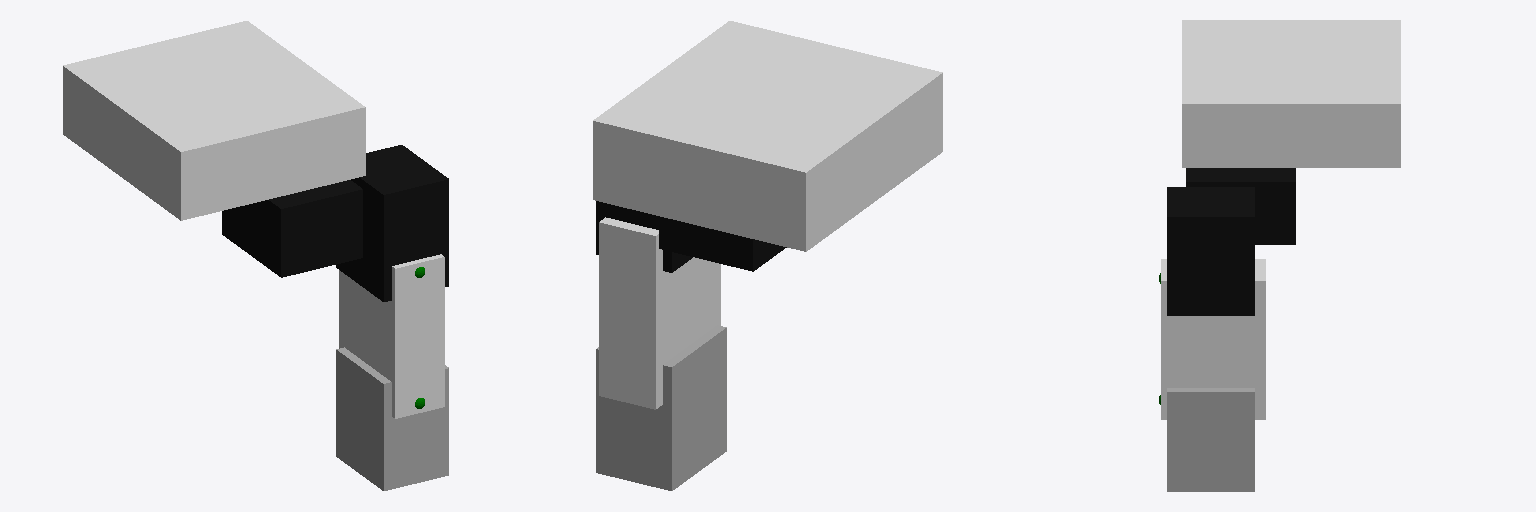
The robot description file, URDF, robot "dog_picker":
<?xml version="1.0" ?>
<!-- =================================================================================== -->
<!-- |    This document was autogenerated by xacro from front_right_leg.xacro          | -->
<!-- |    EDITING THIS FILE BY HAND IS NOT RECOMMENDED                                 | -->
<!-- =================================================================================== -->
<robot name="dog_picker" xmlns:xacro="http://www.ros.org/wiki/xacro">
  <!-- negative green is the joint axis in y... -->
  <!-- z is blue and x is red... -->
  <link name="base_link">
    <visual>
      <origin rpy="0 0 0" xyz="0 0 0.150"/>
      <geometry>
        <box size="0.09 0.1 0.032"/>
      </geometry>
      <material name="DimWhite">
        <color rgba="0.9 0.9 0.9 1.0"/>
      </material>
    </visual>
  </link>
  <joint name="robotis_part_4" type="fixed">
    <origin rpy="1.570795 -1.570795 0.0" xyz="0.045 -0.0365 0.111"/>
    <parent link="base_link"/>
    <child link="dynamixel_AX12_4_link"/>
  </joint>
  <link name="dynamixel_AX12_4_link">
    <!---rviz -->
    <visual>
      <!--link origin is a delta from the joint to the center of the servo box-->
      <origin rpy="0 0 0" xyz="0 0.02 -0.0135"/>
      <geometry>
        <!-- <mesh filename="package://pi_tb_description/meshes/ax12_box.${MESH_EXT}" scale="${M_SCALE} ${M_SCALE} ${M_SCALE}"/> -->
        <box size="0.032 0.04 0.05"/>
      </geometry>
      <material name="Gray">
        <color rgba="0.1 0.1 0.1 1.0"/>
      </material>
    </visual>
  </link>
  <joint name="dynamixel_AX12_4_joint" type="revolute">
    <!--origin of whole dynamixel is at the center of the round part visible on the servo which is the joint -->
    <origin rpy="0 0 0" xyz="0 0 0"/>
    <axis xyz="0 -1 0"/>
    <limit effort="1000" lower="-2.61799166667" upper="2.61799166667" velocity="0.5"/>
    <parent link="dynamixel_AX12_4_link"/>
    <child link="S-B_4_link"/>
  </joint>
  <link name="S-B_4_link">
    <visual>
      <origin rpy="0 0 0" xyz="0 0 0"/>
      <geometry>
        <sphere radius="0.004"/>
      </geometry>
      <material name="Green">
        <color rgba="0 0.5 0 1.0"/>
      </material>
    </visual>
  </link>
  <joint name="S1_4" type="fixed">
    <origin rpy="-1.570795 0 1.570795 " xyz="-0.023 -0.021  0.02"/>
    <parent link="S-B_4_link"/>
    <child link="dynamixel_AX12_16_link"/>
  </joint>
  <link name="dynamixel_AX12_16_link">
    <!---rviz -->
    <visual>
      <!--link origin is a delta from the joint to the center of the servo box-->
      <origin rpy="0 0 0" xyz="0 0.02 -0.0135"/>
      <geometry>
        <!-- <mesh filename="package://pi_tb_description/meshes/ax12_box.${MESH_EXT}" scale="${M_SCALE} ${M_SCALE} ${M_SCALE}"/> -->
        <box size="0.032 0.04 0.05"/>
      </geometry>
      <material name="Gray">
        <color rgba="0.1 0.1 0.1 1.0"/>
      </material>
    </visual>
  </link>
  <joint name="dynamixel_AX12_16_joint" type="revolute">
    <!--origin of whole dynamixel is at the center of the round part visible on the servo which is the joint -->
    <origin rpy="0 0 0" xyz="0 0 0"/>
    <axis xyz="0 -1 0"/>
    <limit effort="1000" lower="-2.61799166667" upper="2.61799166667" velocity="0.5"/>
    <parent link="dynamixel_AX12_16_link"/>
    <child link="S-B_16_link"/>
  </joint>
  <link name="S-B_16_link">
    <visual>
      <origin rpy="0 0 0" xyz="0 0 0"/>
      <geometry>
        <sphere radius="0.004"/>
      </geometry>
      <material name="Green">
        <color rgba="0 0.5 0 1.0"/>
      </material>
    </visual>
  </link>
  <joint name="S1_16" type="fixed">
    <origin rpy="0 0 0" xyz="0 0.021 0.0305"/>
    <parent link="S-B_16_link"/>
    <child link="calf_link_8"/>
  </joint>
  <link name="calf_link_8">
    <visual>
      <origin rpy="0 0 0" xyz="0 0 0"/>
      <geometry>
        <box size="0.024  0.048 0.07"/>
      </geometry>
      <material name="DimWhite">
        <color rgba="0.9 0.9 0.9 1.0"/>
      </material>
    </visual>
  </link>
  <joint name="S1_8" type="fixed">
    <origin rpy="0 3.14159 0" xyz="0 -0.021 0.0305"/>
    <parent link="calf_link_8"/>
    <child link="S-B_8_link"/>
  </joint>
  <link name="S-B_8_link">
    <visual>
      <origin rpy="0 0 0" xyz="0 0 0"/>
      <geometry>
        <sphere radius="0.004"/>
      </geometry>
      <material name="Green">
        <color rgba="0 0.5 0 1.0"/>
      </material>
    </visual>
  </link>
  <joint name="dynamixel_AX12_8_joint" type="revolute">
    <!--origin of whole dynamixel is at the center of the round part visible on the servo which is the joint -->
    <origin rpy="0 0 0" xyz="0 0 0"/>
    <!-- negative green is the joint axis... -->
    <axis xyz="0 -1 0"/>
    <limit effort="1000" lower="-2.61799166667" upper="2.61799166667" velocity="0.5"/>
    <parent link="S-B_8_link"/>
    <child link="dynamixel_AX12_8_link"/>
  </joint>
  <link name="dynamixel_AX12_8_link">
    <!---rviz -->
    <visual>
      <!--link origin is a delta from the joint to the center of the servo box-->
      <origin rpy="0 0 0" xyz="0 0.02 -0.0135"/>
      <geometry>
        <!-- <mesh filename="package://pi_tb_description/meshes/ax12_box.${MESH_EXT}" scale="${M_SCALE} ${M_SCALE} ${M_SCALE}"/> -->
        <box size="0.032 0.04 0.05"/>
      </geometry>
      <material name="black"/>
    </visual>
    <!---gazebo section needs work http://wiki.ros.org/MeshLab http://en.wikipedia.org/wiki/List_of_moment_of_inertia_tensors   
      <inertial>
        <mass value="0.00001" />
        <inertia ixx="1.0" ixy="0.0" ixz="0.0"
          iyy="1.0" iyz="0.0"
          izz="1.0" />
      </inertial>
      <collision>
        <origin xyz="0.0 0.0 -0.0045" rpy="0 0 0" />
        <geometry>
          <box size="0.025 0.038 0.009"/>
        </geometry>
      </collision>
-->
  </link>
</robot>

--- What the picture shows (computed from the rendered views, not written in the file) ---
The picture shows the robot from 3 angles, left to right: view 1: azimuth 30°, elevation 25°; view 2: azimuth 150°, elevation 25°; view 3: azimuth 270°, elevation 25°; orthographic projection.
Model dog_picker with 8 links and 7 joints (3 revolute, 4 fixed), rooted at base_link, posed every joint at zero.
Visible links, largest first — view 1: base_link, calf_link_8, dynamixel_AX12_16_link, dynamixel_AX12_8_link, dynamixel_AX12_4_link; view 2: base_link, calf_link_8, dynamixel_AX12_8_link, dynamixel_AX12_4_link, dynamixel_AX12_16_link; view 3: base_link, dynamixel_AX12_16_link, dynamixel_AX12_8_link, calf_link_8, dynamixel_AX12_4_link.
Boxes of the visible links, x1=… form: base_link: x1=63, y1=21, x2=365, y2=220; calf_link_8: x1=339, y1=254, x2=444, y2=418; dynamixel_AX12_16_link: x1=336, y1=145, x2=448, y2=301; dynamixel_AX12_8_link: x1=336, y1=347, x2=448, y2=490; dynamixel_AX12_4_link: x1=222, y1=180, x2=362, y2=277; base_link: x1=593, y1=21, x2=942, y2=251; calf_link_8: x1=599, y1=217, x2=720, y2=409; dynamixel_AX12_8_link: x1=596, y1=325, x2=726, y2=490; dynamixel_AX12_4_link: x1=659, y1=216, x2=786, y2=271; dynamixel_AX12_16_link: x1=596, y1=201, x2=692, y2=272; base_link: x1=1182, y1=20, x2=1400, y2=167; dynamixel_AX12_16_link: x1=1167, y1=187, x2=1254, y2=315; dynamixel_AX12_8_link: x1=1167, y1=388, x2=1254, y2=491; calf_link_8: x1=1161, y1=259, x2=1265, y2=419; dynamixel_AX12_4_link: x1=1186, y1=168, x2=1295, y2=244.
Bounding box of the posed robot: 0.127 × 0.1105 × 0.1775 m (x, y, z).
Geometry: primitives only (box / cylinder / sphere), no mesh files.
